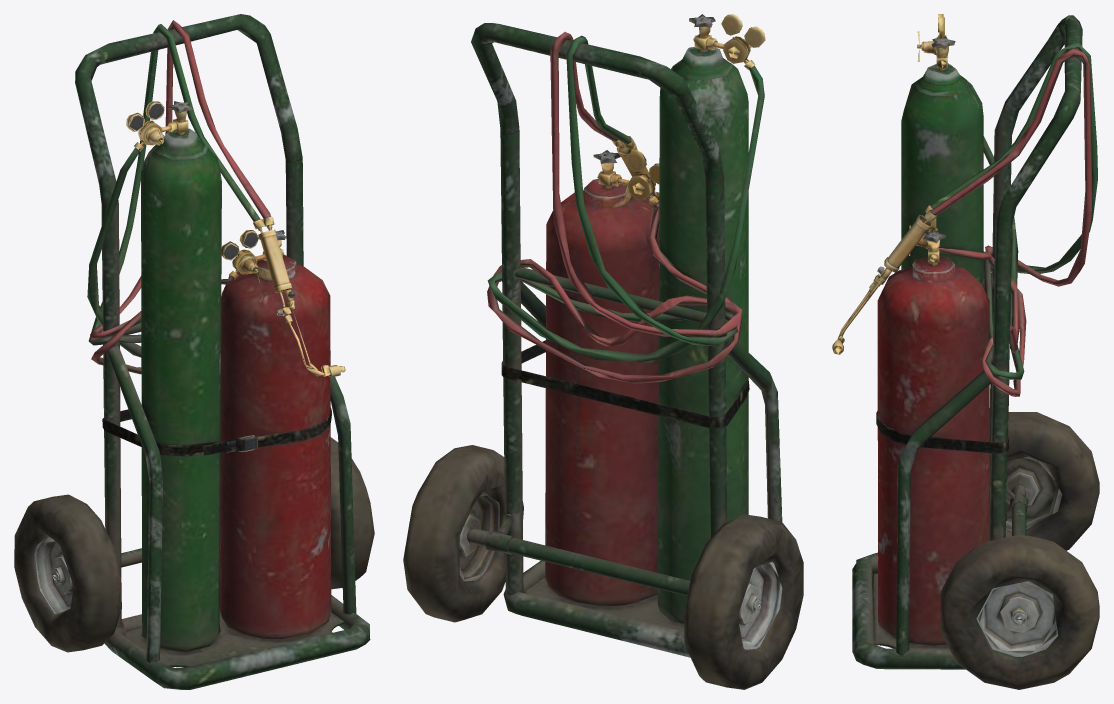
The model's file is portable_welding_cart.glb.
3 renders of one model, left to right at view 1: azimuth 30°, elevation 25°; view 2: azimuth 150°, elevation 25°; view 3: azimuth 270°, elevation 25°, orthographic. The views are drawn at different scales.
Visible parts, largest first — view 1: portable_welding_cart; view 2: portable_welding_cart; view 3: portable_welding_cart.
Boxes of the visible parts, x1,y1,x2,y2 form: portable_welding_cart: [14, 14, 374, 689]; portable_welding_cart: [403, 14, 803, 689]; portable_welding_cart: [832, 14, 1099, 689].
Bounding box in the file's own units: 0.8383 × 1.56 × 0.6549.
Materials: 2 (2 with a texture image).
